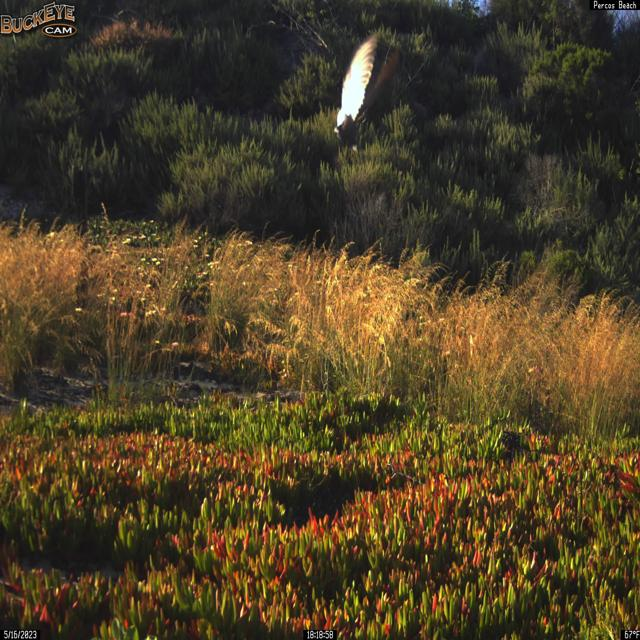bird: (334, 28, 430, 150)
